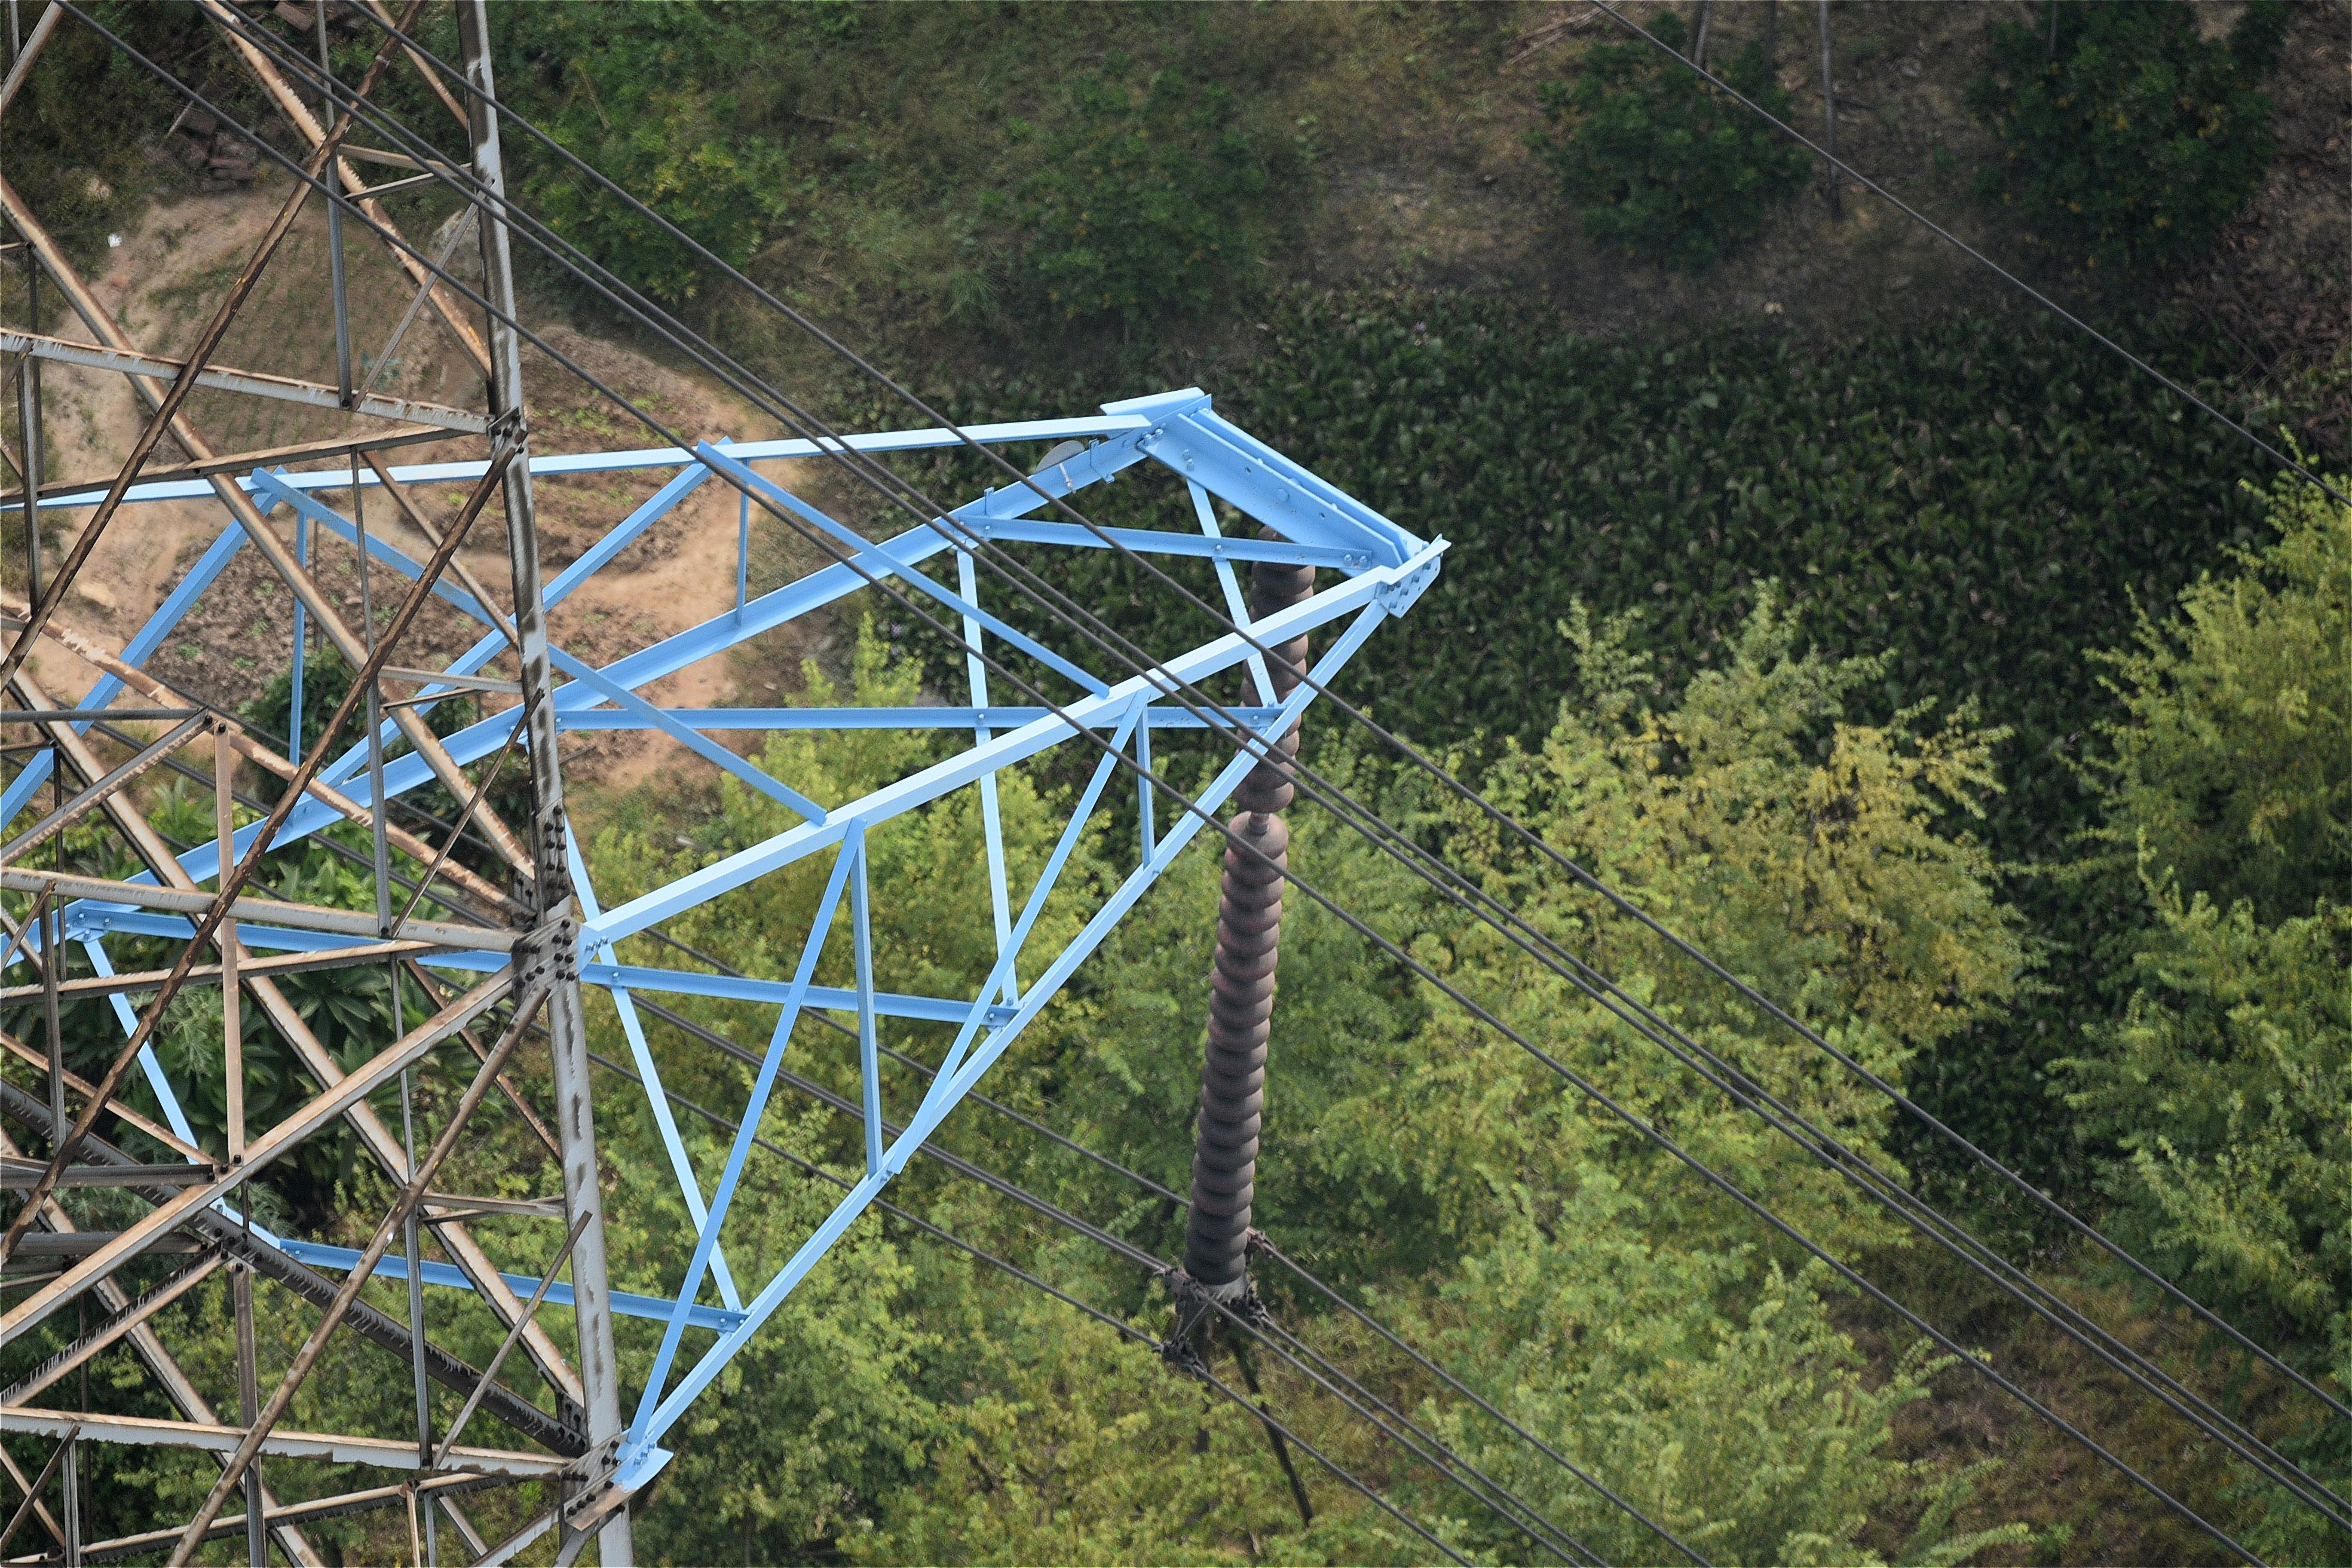insultor1: (1176, 500, 1314, 1339)
